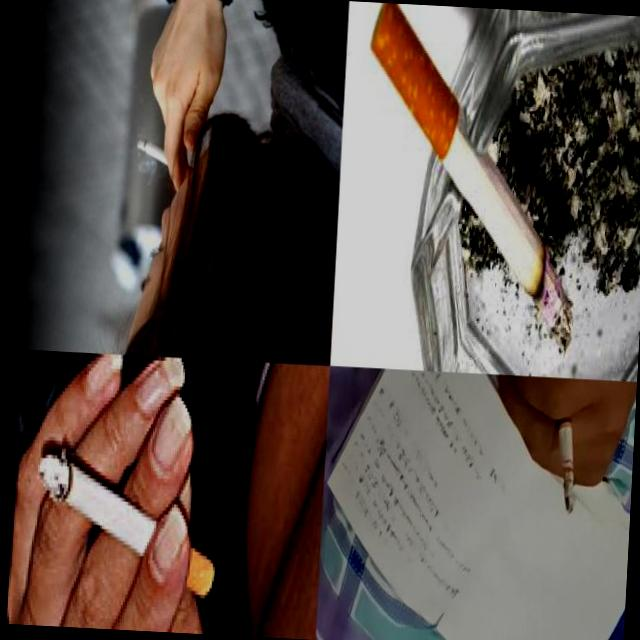cigarette: (352, 3, 590, 358), (31, 452, 222, 600), (548, 391, 584, 517), (136, 136, 197, 178)
